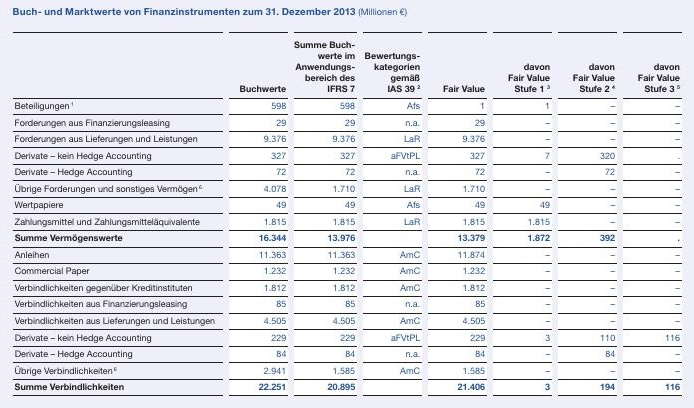table: (0, 0, 694, 408)
